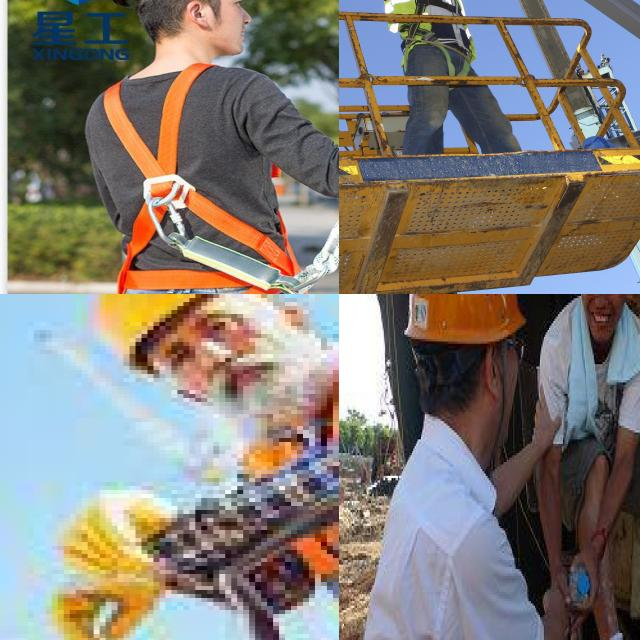Harness: (83, 65, 295, 294)
No_Ear-Protection: (479, 345, 503, 407), (185, 0, 210, 29)
No_Glasses: (228, 0, 249, 11)
face_nomask: (135, 314, 315, 422), (583, 294, 625, 345)
hand_noglove: (52, 486, 177, 578), (39, 582, 171, 640), (574, 529, 608, 610), (532, 389, 562, 453)
head_helmet: (402, 294, 532, 352), (81, 294, 237, 330)
person: (28, 294, 339, 640), (363, 0, 526, 151)
vest: (255, 394, 339, 640), (386, 0, 464, 41)
